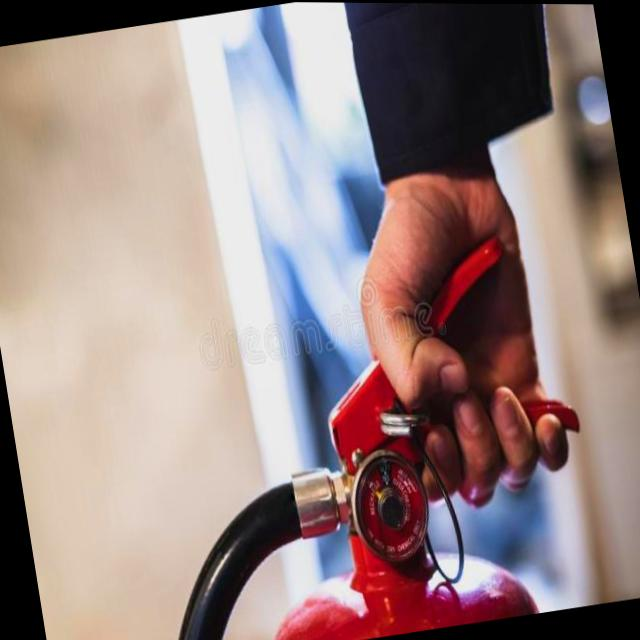FireExtinguisher: (104, 213, 612, 640)
